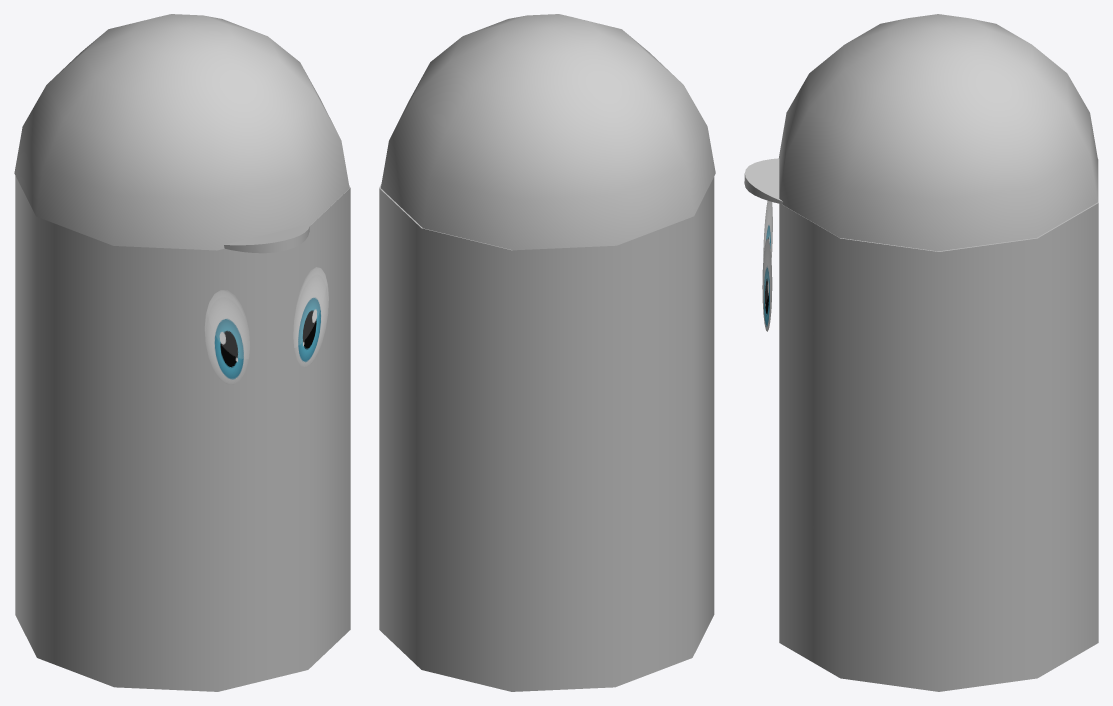
File: Orange.fbx
3 views of the same model, side by side, from view 1: azimuth 30°, elevation 25°; view 2: azimuth 150°, elevation 25°; view 3: azimuth 270°, elevation 25° (orthographic).
Visible parts, largest first — view 1: Capsule001.002, Object.002, Cylinder001.002, Cylinder002.002, Arc001.002; view 2: Capsule001.002, Object.002; view 3: Capsule001.002, Object.002, Arc001.002, Cylinder002.002.
Boxes of the visible parts, x1=… form: Capsule001.002: x1=15, y1=176, x2=350, y2=691; Object.002: x1=14, y1=14, x2=349, y2=250; Cylinder001.002: x1=204, y1=290, x2=249, y2=384; Cylinder002.002: x1=293, y1=267, x2=328, y2=367; Arc001.002: x1=224, y1=223, x2=309, y2=253; Capsule001.002: x1=379, y1=177, x2=714, y2=691; Object.002: x1=381, y1=14, x2=715, y2=250; Capsule001.002: x1=779, y1=159, x2=1098, y2=691; Object.002: x1=779, y1=14, x2=1097, y2=251; Arc001.002: x1=744, y1=158, x2=782, y2=204; Cylinder002.002: x1=762, y1=238, x2=772, y2=331.
Bounding box in the file's own units: 60.25 × 117 × 63.32.
